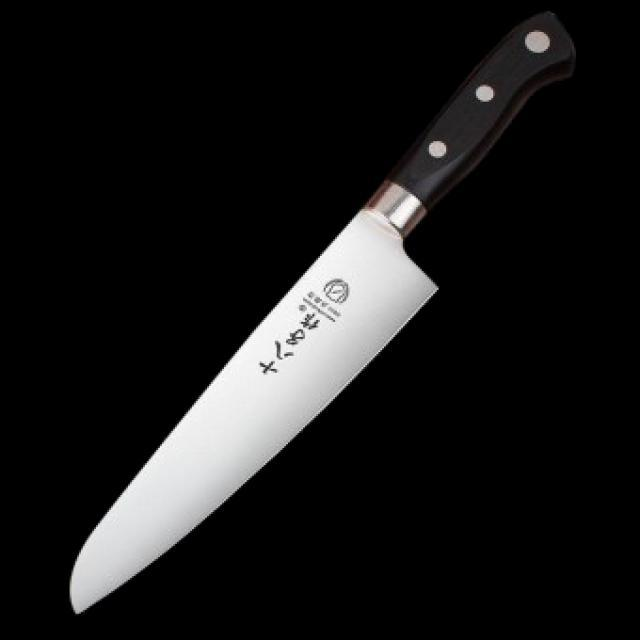knife: (69, 0, 584, 618)
